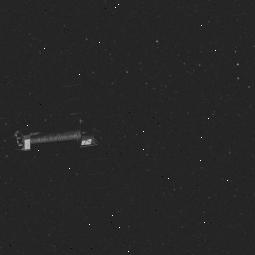xmm_newton: (0, 109, 114, 158)
